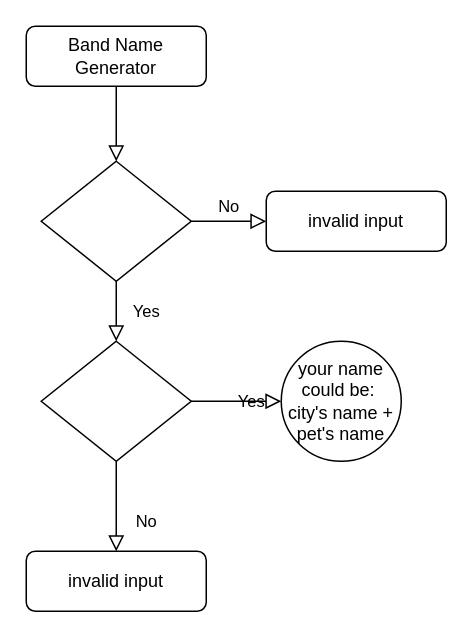
Image size: 473x638. Some labels were removed from this diagram. The shapes that lost their labels are listed below. From the top down, each one's centre as x and y in pixels, then its label:
point 115,220: city's name
point 115,400: Pet's name
